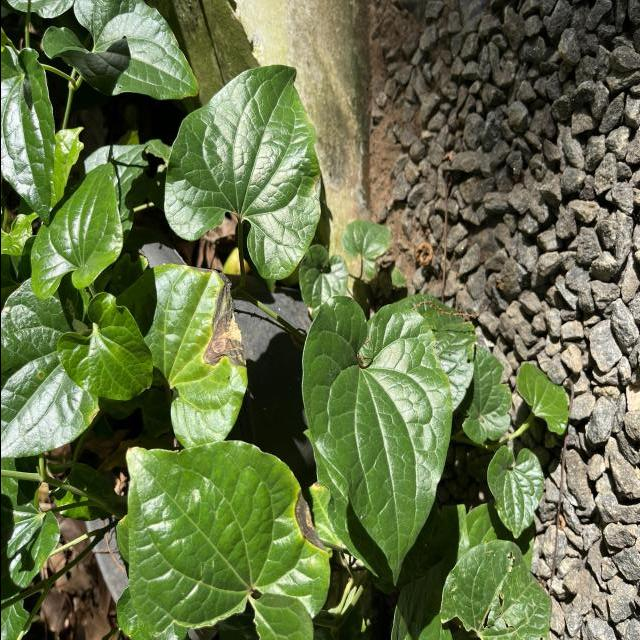Piper longum: (298, 294, 454, 590), (161, 62, 322, 284), (39, 0, 199, 104), (28, 160, 124, 304), (53, 290, 154, 404)
